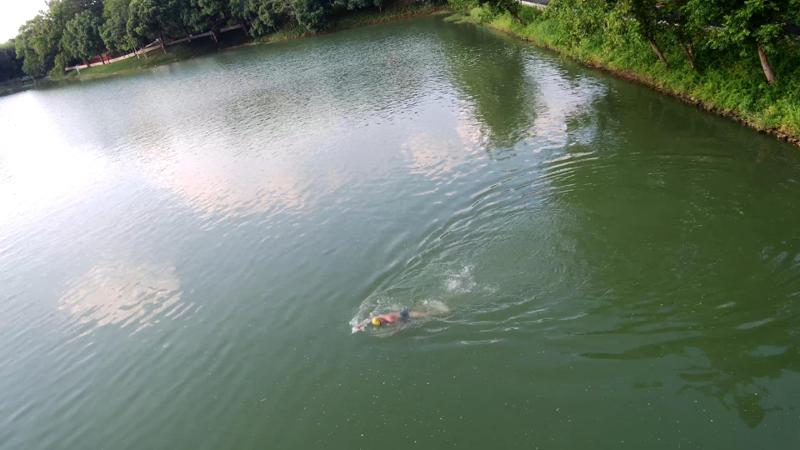swimmers: (355, 308, 433, 331)
